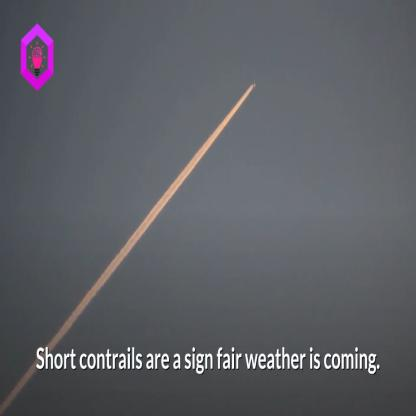plane: (251, 78, 258, 89)
